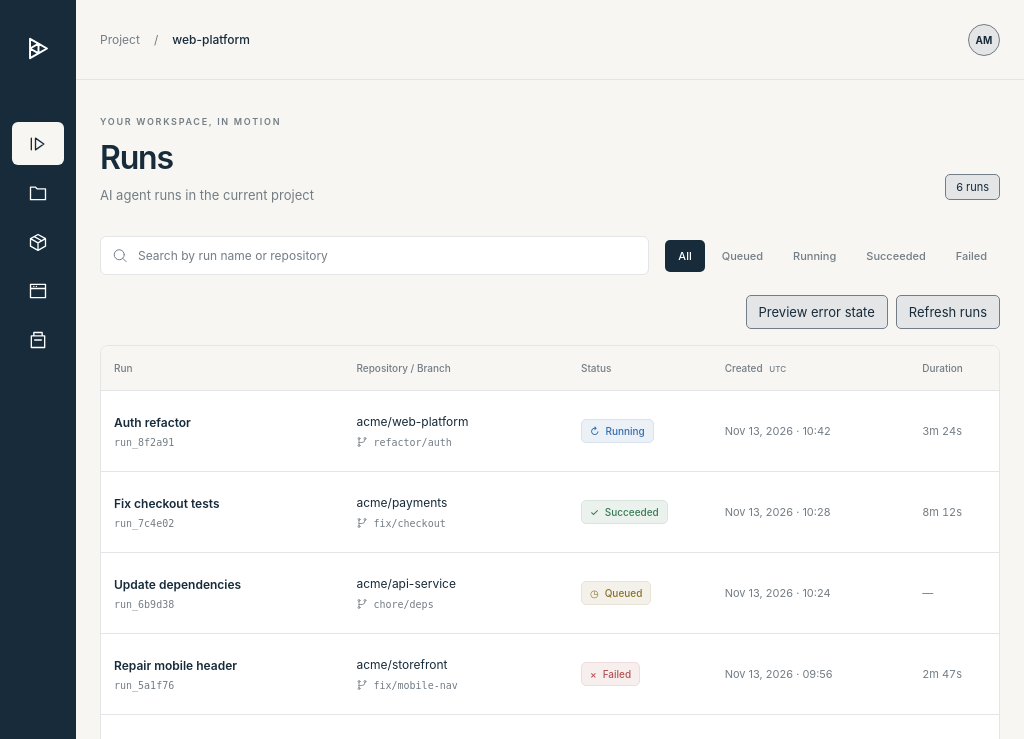
Test case: runs page › opens the selected run's details
Click the button "Auth refactor" at [152, 422], box [114,415,191,430]
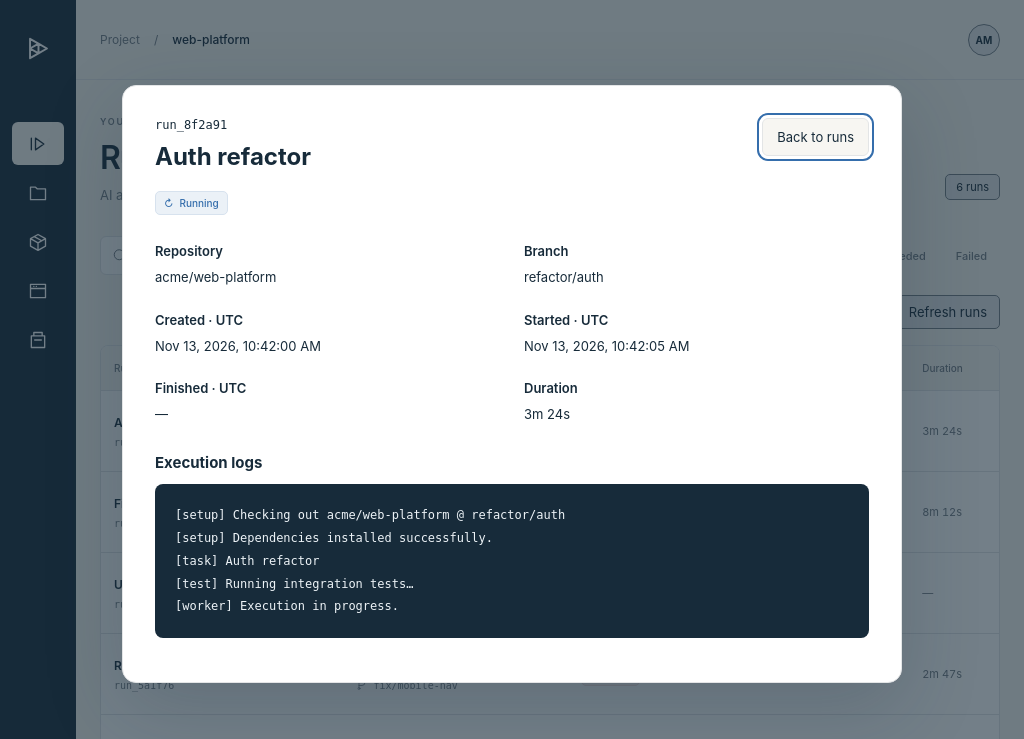
Expected: the text "run_8f2a91" is shown, [155,118,227,132]
Expected: the heading "Execution logs" is shown, [155,453,262,472]
